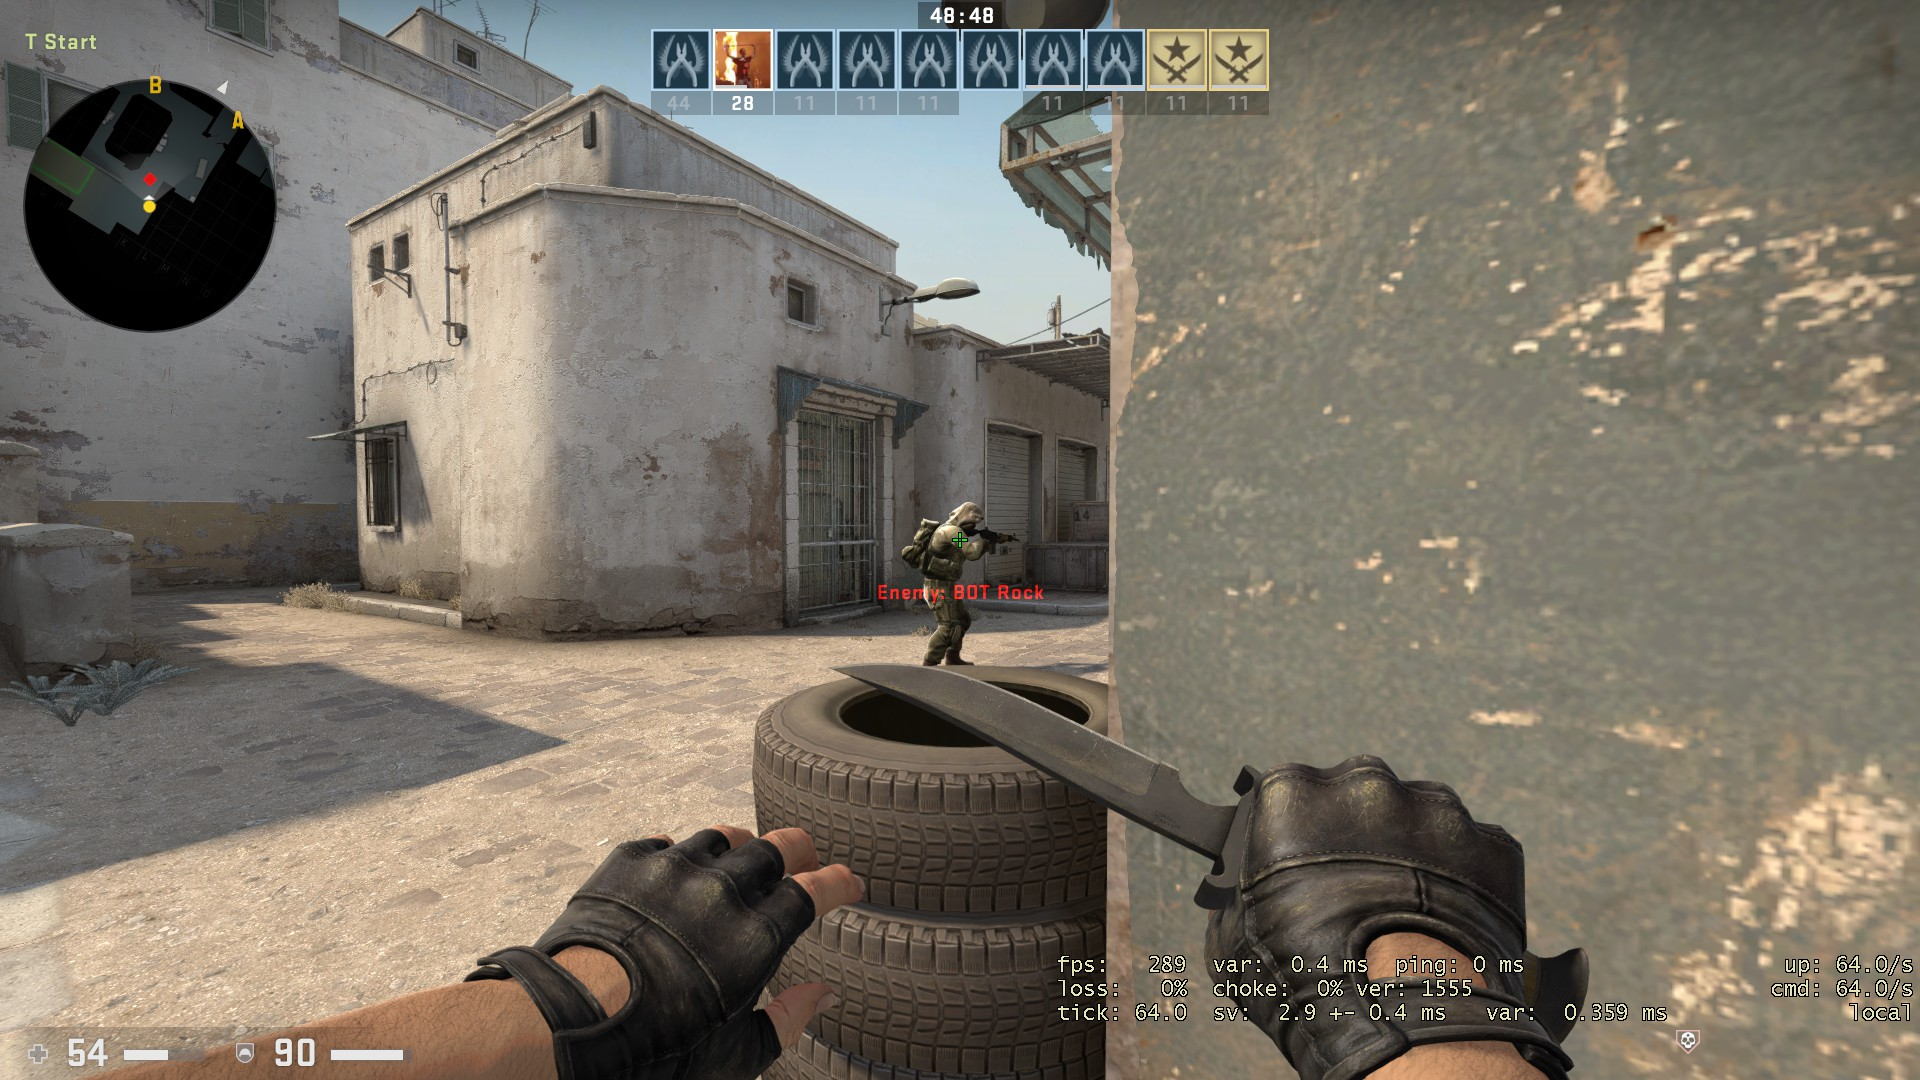player: (895, 486, 1025, 665)
